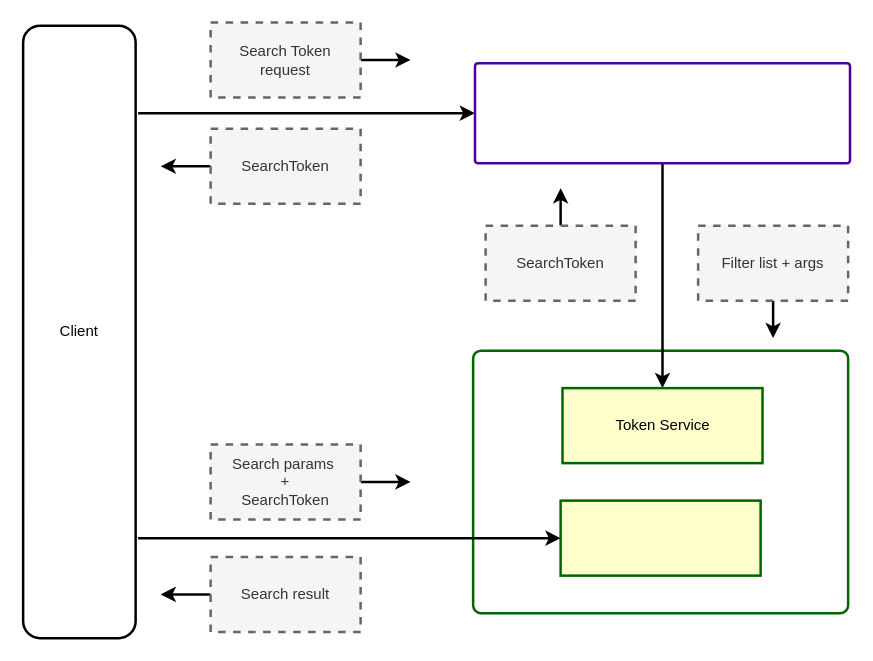
Some shapes in this 873 by 661 pixel diagram are drawn without their labels. The shapes that lost their labels are listed below. From the top down, each one's box as (x1, y1, x2, y2) in pixels, then its label:
(473, 61, 851, 164): Some API
(471, 349, 849, 614): MyLab.Search.Delegate
(559, 499, 761, 576): Request Processing
